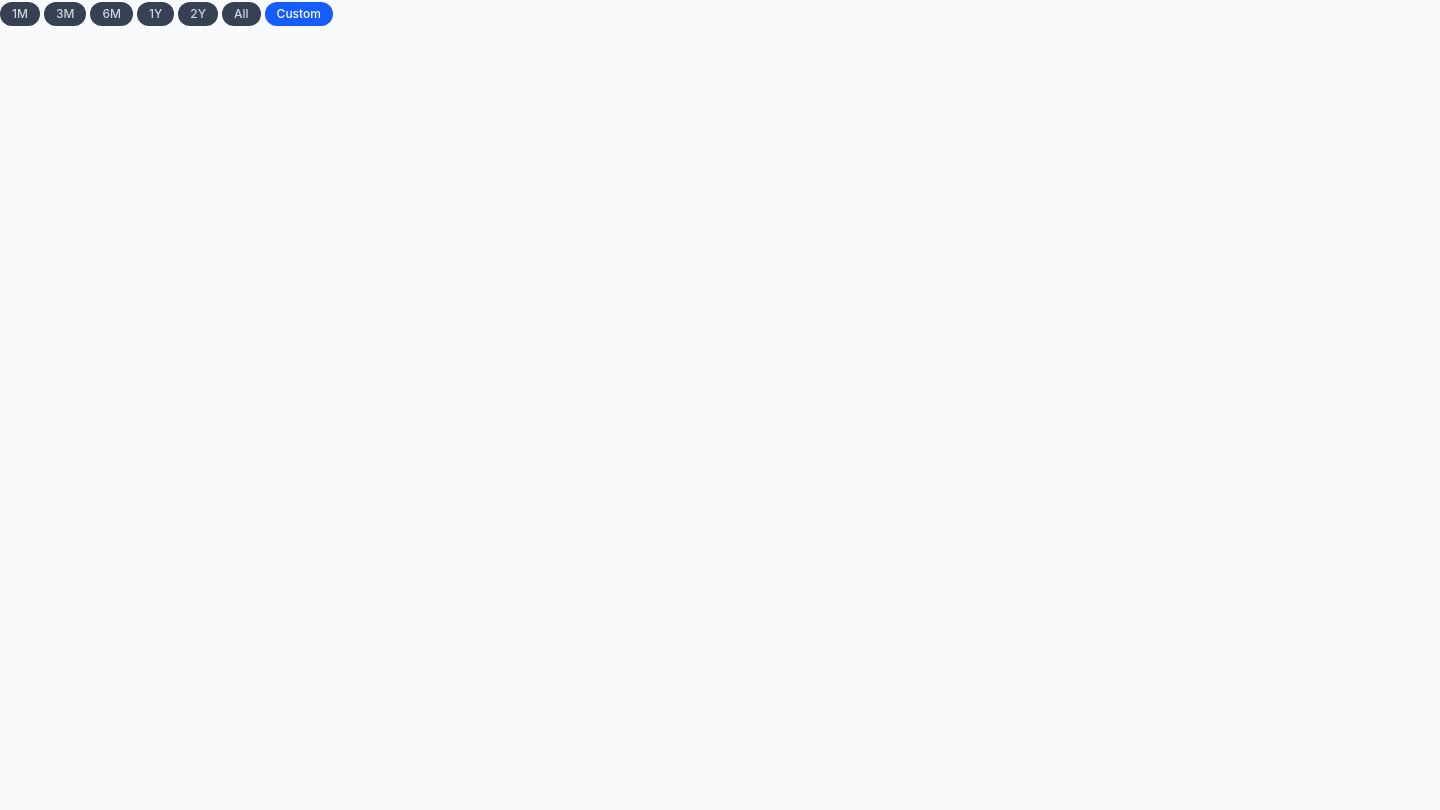
NetWorthRangeControls › seeds the popover inputs from the initialCustomFrom / initialCustomTo props
Click the button "Custom" at x=299, y=14, box [265, 2, 333, 26]
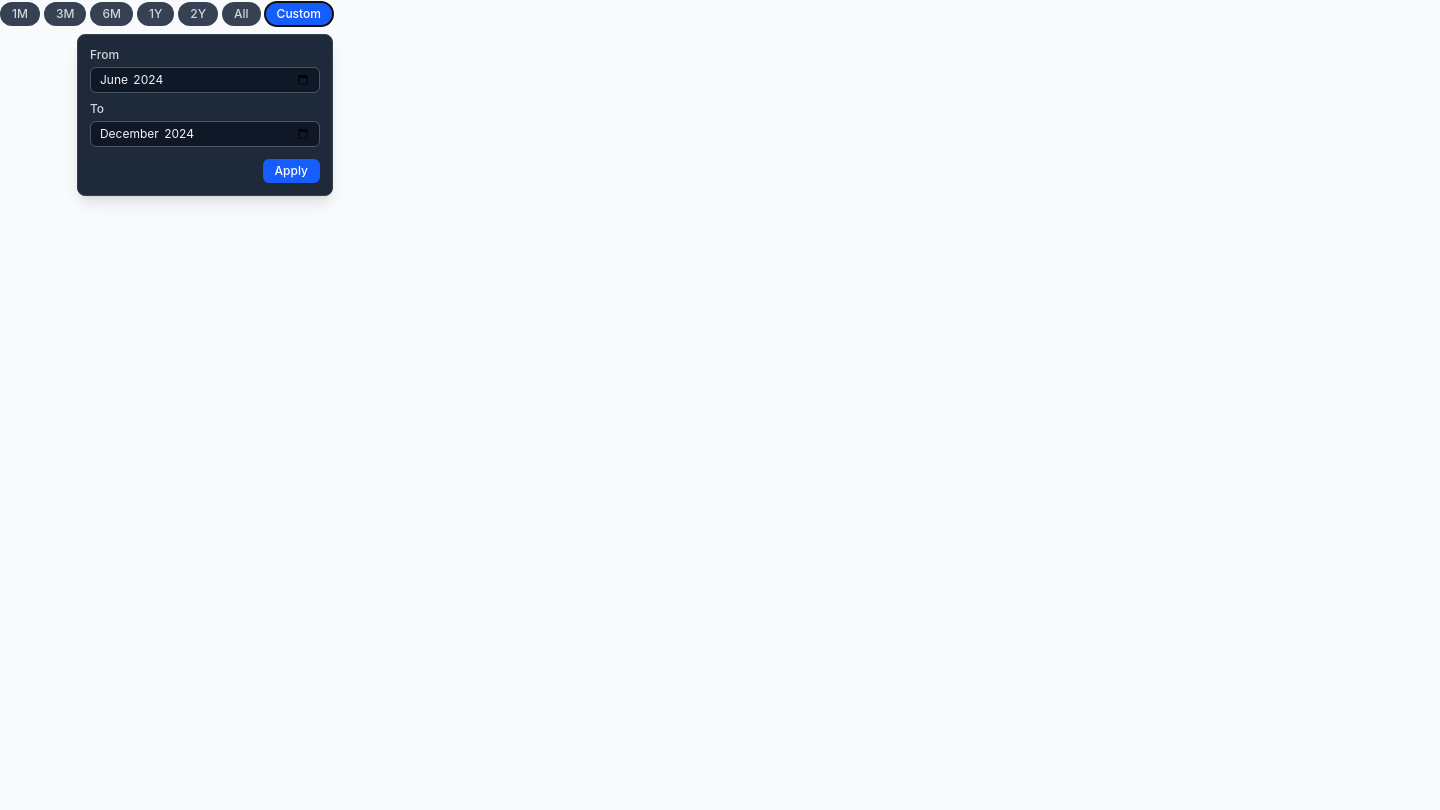
expect the field labelled "From" holds "2024-06": met, box [90, 67, 320, 93]
expect the field labelled "To" holds "2024-12": met, box [90, 121, 320, 147]
